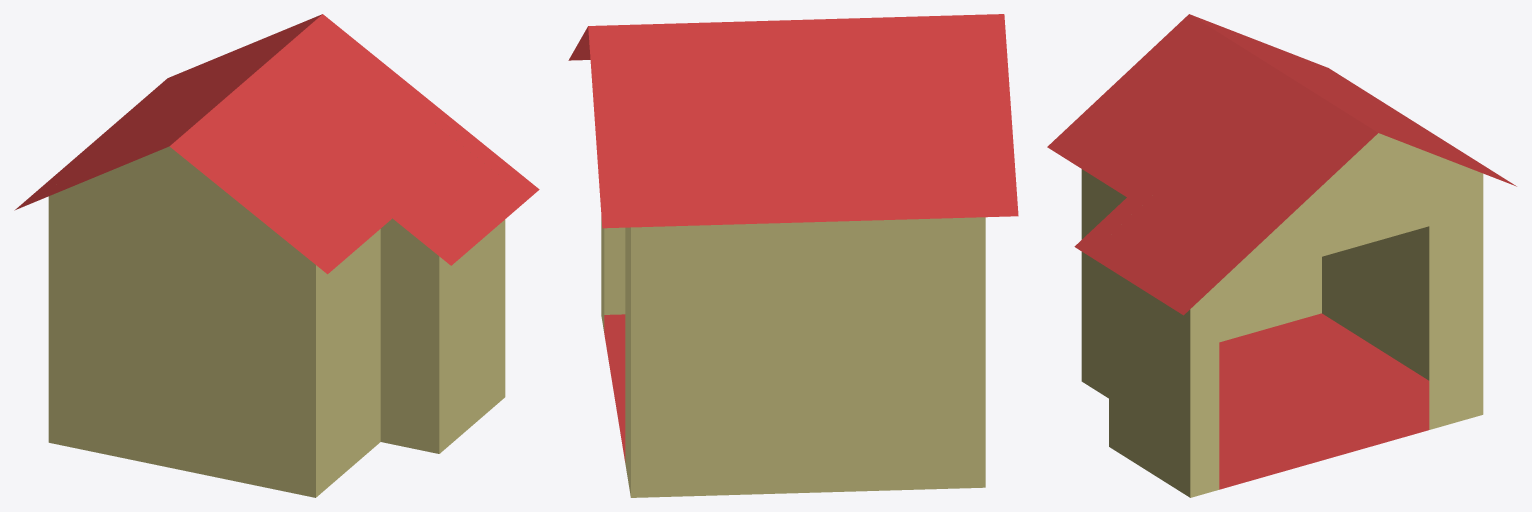
3 renders of one model, left to right at view 1: azimuth 30°, elevation 25°; view 2: azimuth 150°, elevation 25°; view 3: azimuth 270°, elevation 25°, orthographic. The views are drawn at different scales.
Size of the model in its own units: 15.17 by 14.11 by 10.72.
